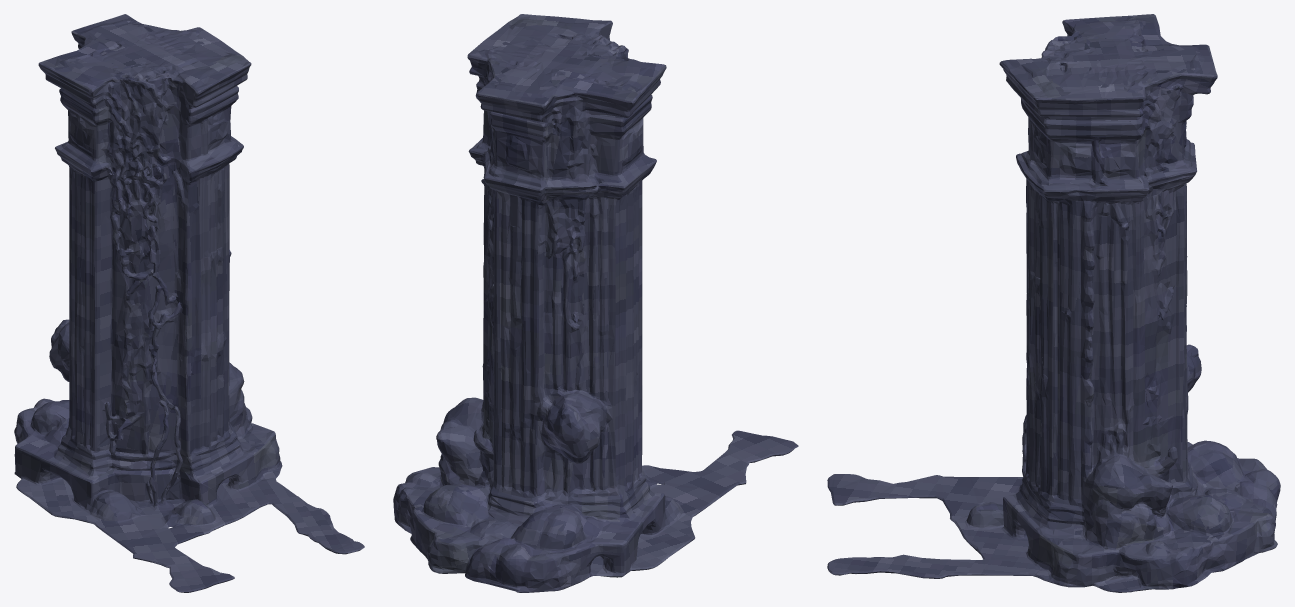
Rendered from weathered-monolith-pillar-generated-2026-04-19T23-51-13-313Z.medium.glb.
3 views of the same model, side by side, from view 1: azimuth 30°, elevation 25°; view 2: azimuth 150°, elevation 25°; view 3: azimuth 270°, elevation 25° (orthographic). The views are drawn at different scales.
Parts seen in each view (by area): view 1: temp_mesh.ply; view 2: temp_mesh.ply; view 3: temp_mesh.ply.
Boxes of the visible parts, box(x1,y1,x2,y2) form: temp_mesh.ply: box(14, 14, 364, 592); temp_mesh.ply: box(393, 14, 798, 592); temp_mesh.ply: box(827, 14, 1280, 592).
Size of the model in its own units: 1.14 by 1.97 by 1.73.
Materials: 1 (1 with a texture image).
